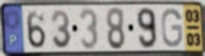3: (79, 5, 101, 52), (49, 8, 73, 51)
6: (25, 9, 47, 50)
8: (104, 6, 126, 51)
9: (135, 6, 159, 51)
G: (160, 7, 184, 49)
